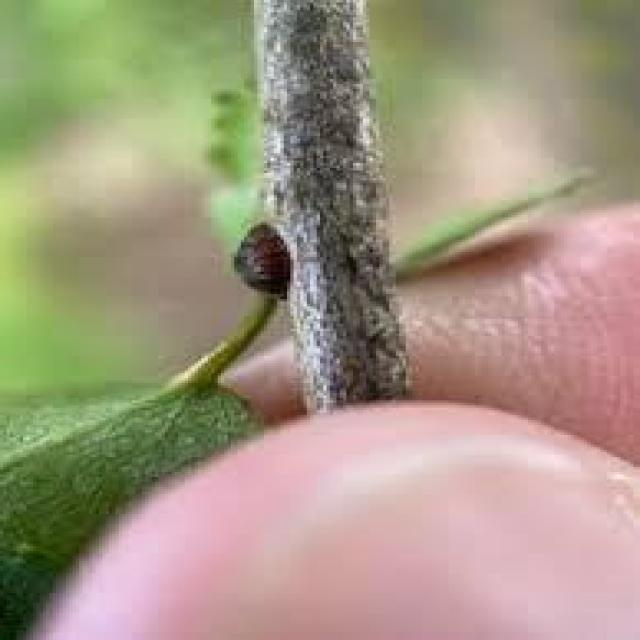Black Scale: (233, 220, 293, 299)
